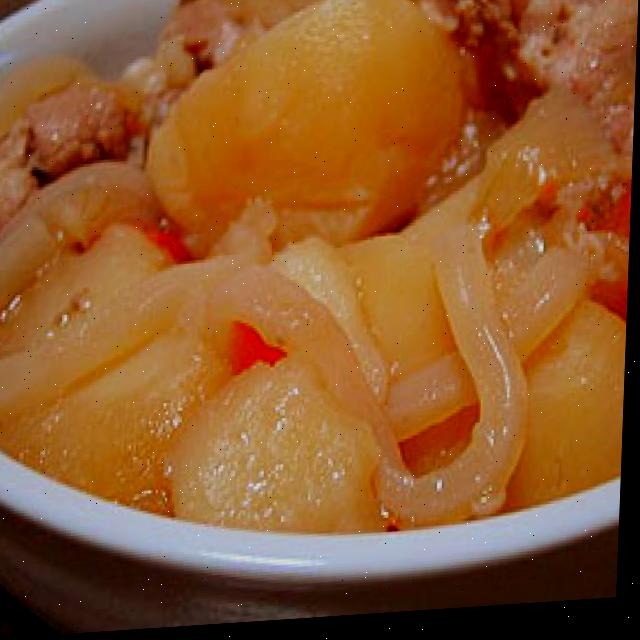牛肉菜式: (3, 0, 640, 639)
